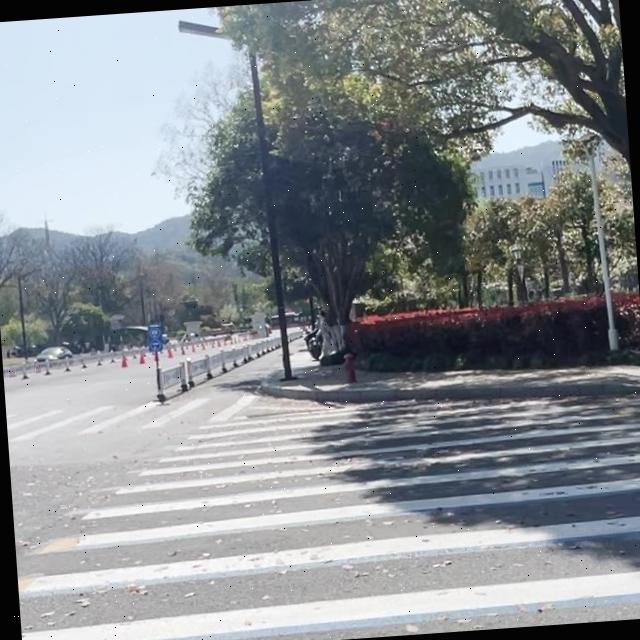curb: (260, 379, 640, 404)
